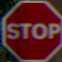Stop: (5, 3, 61, 57)
